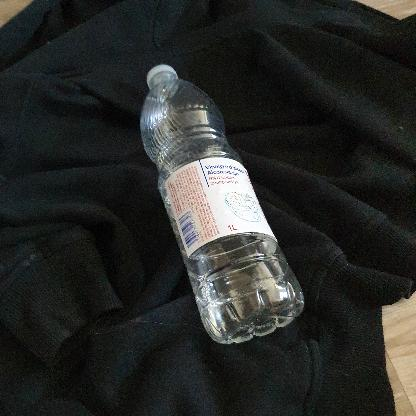Plastic Bottle: (140, 63, 304, 344)
